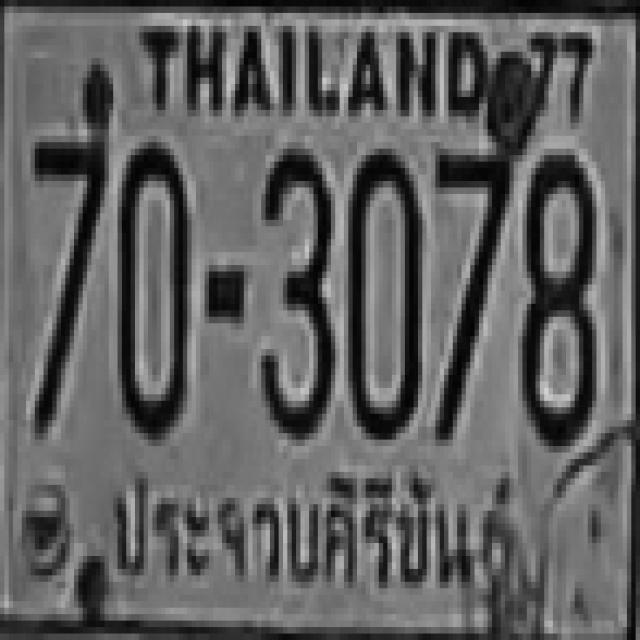0: (113, 136, 187, 433), (344, 142, 418, 433)
3: (257, 142, 331, 433)
7: (431, 146, 514, 437), (30, 132, 104, 430)
8: (518, 148, 592, 440)
PrachuapKhiriKhan: (106, 466, 522, 603)
